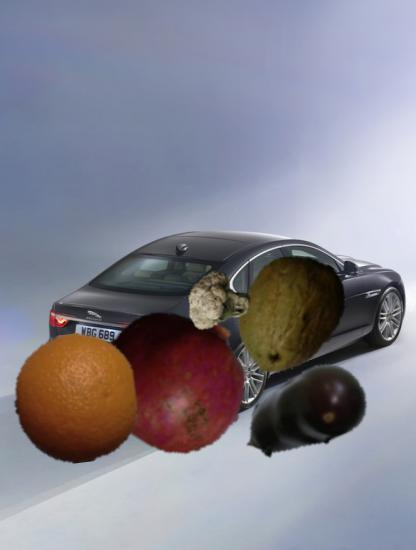Cauliflower: (187, 268, 252, 333)
Eggplant: (237, 346, 372, 481)
Orange: (10, 334, 140, 464)
Papaya: (226, 251, 353, 378)
Pomegranate: (100, 304, 250, 454)
